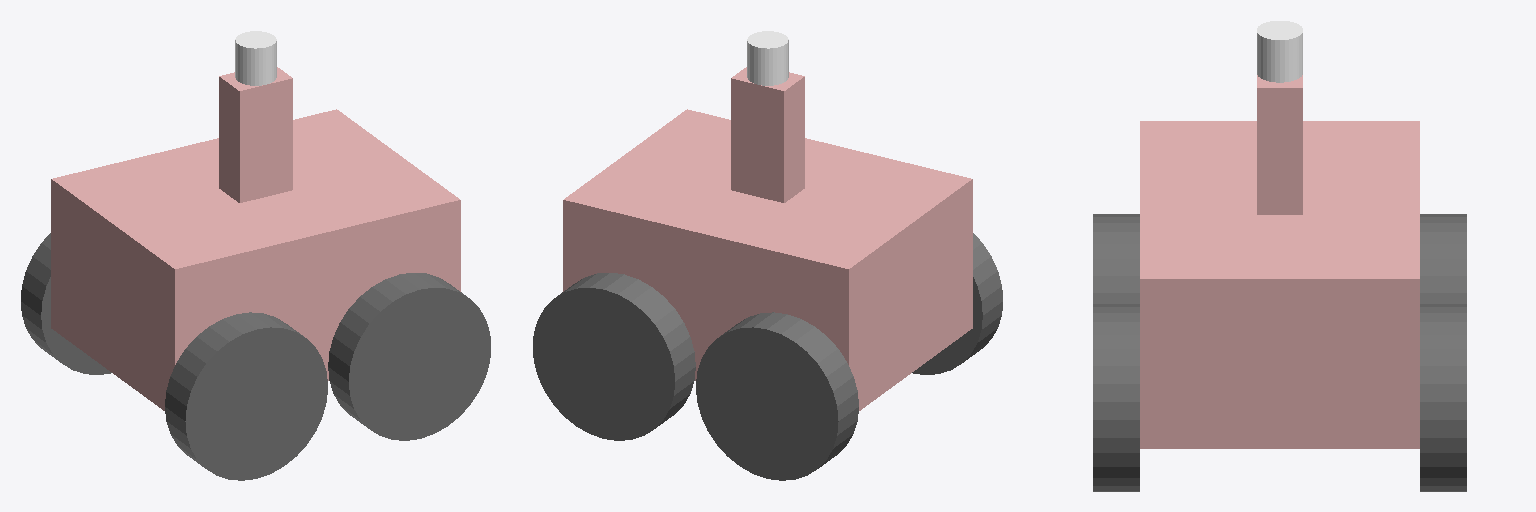
The robot description file, URDF, robot "my_robot":
<?xml version="1.0" ?><!-- =================================================================================== --><!-- |    This document was autogenerated by xacro from [local-path]/rover_ws/install/rover/share/rover/models/my_robot.urdf.xacro | --><!-- |    EDITING THIS FILE BY HAND IS NOT RECOMMENDED                                 | --><!-- =================================================================================== --><robot name="my_robot"><material name="grey"><color rgba="0.5 0.5 0.5 1"/></material><material name="pink"><color rgba="0.96 0.76 0.76 1"/></material><material name="white"><color rgba="1 1 1 1"/></material><gazebo reference="base_link"><mu1>0.2</mu1><mu2>0.2</mu2><material>Gazebo/Blue</material></gazebo><gazebo reference="stand_link"><mu1>0.2</mu1><mu2>0.2</mu2><material>Gazebo/Blue</material></gazebo><gazebo reference="camera_l_link"><mu1>0.2</mu1><mu2>0.2</mu2><material>Gazebo/White</material></gazebo><gazebo reference="camera_r_link"><mu1>0.2</mu1><mu2>0.2</mu2><material>Gazebo/White</material></gazebo><gazebo reference="wheel_fr_link"><mu1>0.2</mu1><mu2>0.2</mu2><material>Gazebo/White</material></gazebo><gazebo reference="wheel_fl_link"><mu1>0.2</mu1><mu2>0.2</mu2><material>Gazebo/White</material></gazebo><gazebo reference="wheel_br_link"><mu1>0.2</mu1><mu2>0.2</mu2><material>Gazebo/White</material></gazebo><gazebo reference="wheel_bl_link"><mu1>0.2</mu1><mu2>0.2</mu2><material>Gazebo/White</material></gazebo><gazebo><!-- <plugin filename="gz-sim-physics-system" name="gz::sim::systems::Physics"></plugin>
        <plugin filename="gz-sim-scene-broadcaster-system" name="gz::sim::systems::SceneBroadcaster"></plugin> --><!-- <plugin filename="gz_ros2_control-system" name="gz_ros2_control::GazeboSimROS2ControlPlugin">
            <parameters>$(find rover)/config/gz_bridge.yaml</parameters>
        </plugin> --><plugin filename="gz-sim-imu-system" name="gz::sim::systems::Imu">
    
        </plugin><plugin filename="gz-sim-sensors-system" name="gz::sim::systems::Sensors"><render_engine>ogre2</render_engine></plugin><plugin filename="gz-sim-diff-drive-system" name="gz::sim::systems::DiffDrive"><!-- wheels --><num_wheel_pairs>2</num_wheel_pairs><left_joint>wheel_fl_joint</left_joint><left_joint>wheel_bl_joint</left_joint><right_joint>wheel_fr_joint</right_joint><right_joint>wheel_br_joint</right_joint><!-- kinematics --><wheel_separation>1.15</wheel_separation><wheel_radius>0.2</wheel_radius><!-- limits --><max_linear_acceleration>10</max_linear_acceleration><max_velocity>10.0</max_velocity><max_angular_velocity>10.0</max_angular_velocity><!-- topics, update frequencies --><update_rate>50</update_rate><odom_publish_frequency>50</odom_publish_frequency><topic>cmd_vel</topic><tf_topic>/tf</tf_topic><odom_topic>odom</odom_topic><wheel_friction><wheel_fl_link><mu1>10.0</mu1><!-- Lateral friction --><mu2>10.0</mu2><!-- Rolling friction --></wheel_fl_link><wheel_fr_link><mu1>10.0</mu1><!-- Lateral friction --><mu2>10.0</mu2><!-- Rolling friction --></wheel_fr_link><wheel_bl_link><mu1>10.0</mu1><!-- Lateral friction --><mu2>10.0</mu2><!-- Rolling friction --></wheel_bl_link><wheel_br_link><mu1>10.0</mu1><!-- Lateral friction --><mu2>10.0</mu2><!-- Rolling friction --></wheel_br_link></wheel_friction></plugin><plugin filename="gz-sim-joint-state-publisher-system" name="gz::sim::systems::JointStatePublisher"><topic>joint_states</topic><joint_name>wheel_fl_joint</joint_name><joint_name>wheel_bl_joint</joint_name><joint_name>wheel_fr_joint</joint_name><joint_name>wheel_br_joint</joint_name></plugin></gazebo><gazebo reference="imu_link"><sensor name="imu_sensor" type="imu"><always_on>1</always_on><update_rate>50</update_rate><visualize>true</visualize><topic>imu</topic></sensor></gazebo><gazebo reference="lidar_link"><sensor name="lidar" type="gpu_lidar"><pose>0 0 0 0 0 0</pose><topic>cloud</topic><update_rate>10</update_rate><gz_frame_id>lidar_link</gz_frame_id><lidar><scan><horizontal><samples>720</samples><min_angle>-3.141592653</min_angle><max_angle>3.141592653</max_angle></horizontal><vertical><samples>64</samples><min_angle>-0.61</min_angle><max_angle>-0.001</max_angle></vertical></scan><range><min>0.3</min><max>4.6</max><resolution>0.01</resolution><noise><type>gaussian</type><mean>0.0</mean><stddev>0.02</stddev></noise></range></lidar><always_on>1</always_on><visualize>true</visualize></sensor></gazebo><joint name="stand_joint" type="fixed"><origin xyz="0 0 0.7100000000000001"/><parent link="base_link"/><child link="stand_link"/></joint><!-- <joint name="camera_l_joint" type="fixed">
        <origin xyz="${stand_length/2} ${stand_width/3} ${stand_height/2 - camera_height/2}"/>
        <parent link="stand_link"/>
        <child link="camera_l_link"/>
    </joint>

    <joint name="camera_r_joint" type="fixed">
        <origin xyz="${stand_length/2} ${-stand_width/3} ${stand_height/2 - camera_height/2}"/>
        <parent link="stand_link"/>
        <child link="camera_r_link"/>
    </joint> --><joint name="lidar_joint" type="fixed"><origin xyz="0 0 0.2"/><parent link="stand_link"/><child link="lidar_link"/></joint><joint name="imu_joint" type="fixed"><parent link="base_link"/><child link="imu_link"/></joint><joint name="wheel_fr_joint" type="continuous"><parent link="base_link"/><child link="wheel_fr_link"/><axis xyz="0 1 0"/><origin rpy="0 0 0" xyz="0.2285714285714286 -0.35 0.2"/><limit effort="20000" velocity="1.7"/><dynamics damping="1.0" friction="10.0"/></joint><joint name="wheel_fl_joint" type="continuous"><parent link="base_link"/><child link="wheel_fl_link"/><axis xyz="0 1 0"/><origin rpy="0 0 0" xyz="0.2285714285714286 0.35 0.2"/><limit effort="20000" velocity="1.7"/><dynamics damping="1.0" friction="10.0"/></joint><joint name="wheel_br_joint" type="continuous"><parent link="base_link"/><child link="wheel_br_link"/><axis xyz="0 1 0"/><origin rpy="0 0 0" xyz="-0.2285714285714286 -0.35 0.2"/><limit effort="20000" velocity="1.7"/><dynamics damping="1.0" friction="10.0"/></joint><joint name="wheel_bl_joint" type="continuous"><parent link="base_link"/><child link="wheel_bl_link"/><axis xyz="0 1 0"/><origin rpy="0 0 0" xyz="-0.2285714285714286 0.35 0.2"/><limit effort="20000" velocity="1.7"/><dynamics damping="1.0" friction="10.0"/></joint><link name="base_link"><visual><geometry><box size="0.8 0.6 0.4"/></geometry><origin rpy="0 0 0" xyz="0 0 0.36000000000000004"/><material name="pink"/></visual><collision><geometry><box size="0.8 0.6 0.4"/></geometry><origin rpy="0 0 0" xyz="0 0 0.36000000000000004"/></collision><inertial><origin rpy="0 0 0" xyz="0 0 0.36000000000000004"/><mass value="5"/><inertia ixx="0.3333333333333334" ixy="0" ixz="0" iyy="0.21666666666666667" iyz="0" izz="0.4166666666666667"/></inertial></link><link name="stand_link"><visual><geometry><box size="0.15 0.1 0.3"/></geometry><origin rpy="0 0 0" xyz="0 0 0"/><material name="pink"/></visual><collision><geometry><box size="0.15 0.1 0.3"/></geometry><origin rpy="0 0 0" xyz="0 0 0"/></collision><inertial><origin rpy="0 0 0" xyz="0 0 0"/><mass value="1"/><inertia ixx="0.009374999999999998" ixy="0" ixz="0" iyy="0.008333333333333333" iyz="0" izz="0.0027083333333333334"/></inertial></link><!-- <link name="camera_l_link">
        <visual>
            <geometry>
                <box size="${camera_length/2} ${camera_width} ${camera_height}"/>
            </geometry>
            <origin xyz="${-camera_length/4 + camera_length/2} 0 0" rpy="0 0 0"/>
            <material name="white"/>
        </visual>
        <visual>
            <geometry>
                <cylinder radius="${camera_width/3.2}" length="${camera_length/2}"/>
            </geometry>
            <origin xyz="${camera_length/4 + camera_length/2} 0 0" rpy="0 ${pi/2} 0"/>
            <material name="white"/>
        </visual>
        <collision>
            <geometry>
                <box size="${camera_length} ${camera_width} ${camera_height}"/>
            </geometry>
            <origin xyz="0 0 0" rpy="0 0 0"/>
        </collision>
        <inertial>
            <origin xyz="0 0 0" rpy="0 0 0"/>
            <mass value="${camera_mass}"/>
            <inertia ixx="${(camera_mass/12)*(camera_height * camera_height + camera_length * camera_length)}" ixy="0" ixz="0" iyy="${(camera_mass/12)*(camera_height * camera_height + camera_width * camera_width)}" iyz="0" izz="${(camera_mass/12)*(camera_length * camera_length + camera_width * camera_width)}"/>
        </inertial>
    </link>

    <link name="camera_r_link">
        <visual>
            <geometry>
                <box size="${camera_length/2} ${camera_width} ${camera_height}"/>
            </geometry>
            <origin xyz="${-camera_length/4 + camera_length/2} 0 0" rpy="0 0 0"/>
            <material name="white"/>
        </visual>
        <visual>
            <geometry>
                <cylinder radius="${camera_width/3.2}" length="${camera_length/2}"/>
            </geometry>
            <origin xyz="${camera_length/4 + camera_length/2} 0 0" rpy="0 ${pi/2} 0"/>
            <material name="white"/>
        </visual>
        <collision>
            <geometry>
                <box size="${camera_length} ${camera_width} ${camera_height}"/>
            </geometry>
            <origin xyz="0 0 0" rpy="0 0 0"/>
        </collision>
        <inertial>
            <origin xyz="0 0 0" rpy="0 0 0"/>
            <mass value="${camera_mass}"/>
            <inertia ixx="${(camera_mass/12)*(camera_height * camera_height + camera_length * camera_length)}" ixy="0" ixz="0" iyy="${(camera_mass/12)*(camera_height * camera_height + camera_width * camera_width)}" iyz="0" izz="${(camera_mass/12)*(camera_length * camera_length + camera_width * camera_width)}"/>
        </inertial>
    </link> --><link name="lidar_link"><visual><geometry><cylinder length="0.1" radius="0.05"/></geometry><origin rpy="0 0 0" xyz="0 0 0"/><material name="white"/></visual><collision><geometry><cylinder length="0.1" radius="0.05"/></geometry><origin rpy="0 0 0" xyz="0 0 0"/></collision><inertial><origin rpy="0 0 0" xyz="0 0 0"/><mass value="0.1"/><inertia ixx="0.00014583333333333335" ixy="0" ixz="0" iyy="0.00014583333333333335" iyz="0" izz="0.00012500000000000003"/></inertial></link><link name="imu_link"><inertial><mass value="0.01"/><origin rpy="0 0 0" xyz="0 0 0"/><inertia ixx="1e-5" ixy="0" ixz="0" iyy="1e-5" iyz="0" izz="1e-5"/></inertial></link><link name="wheel_fr_link"><visual><geometry><cylinder length="0.1" radius="0.2"/></geometry><origin rpy="1.5707963267948966 0 0" xyz="0 0 0"/><material name="grey"/></visual><collision><geometry><cylinder length="0.1" radius="0.2"/></geometry><origin rpy="1.5707963267948966 0 0" xyz="0 0 0"/></collision><inertial><origin rpy="1.5707963267948966 0 0" xyz="0 0 0"/><mass value="1.2"/><inertia ixx="0.013000000000000003" ixy="0" ixz="0" iyy="0.013000000000000003" iyz="0" izz="0.024"/></inertial></link><link name="wheel_fl_link"><visual><geometry><cylinder length="0.1" radius="0.2"/></geometry><origin rpy="1.5707963267948966 0 0" xyz="0 0 0"/><material name="grey"/></visual><collision><geometry><cylinder length="0.1" radius="0.2"/></geometry><origin rpy="1.5707963267948966 0 0" xyz="0 0 0"/></collision><inertial><origin rpy="1.5707963267948966 0 0" xyz="0 0 0"/><mass value="1.2"/><inertia ixx="0.013000000000000003" ixy="0" ixz="0" iyy="0.013000000000000003" iyz="0" izz="0.024"/></inertial></link><link name="wheel_br_link"><visual><geometry><cylinder length="0.1" radius="0.2"/></geometry><origin rpy="1.5707963267948966 0 0" xyz="0 0 0"/><material name="grey"/></visual><collision><geometry><cylinder length="0.1" radius="0.2"/></geometry><origin rpy="1.5707963267948966 0 0" xyz="0 0 0"/></collision><inertial><origin rpy="1.5707963267948966 0 0" xyz="0 0 0"/><mass value="1.2"/><inertia ixx="0.013000000000000003" ixy="0" ixz="0" iyy="0.013000000000000003" iyz="0" izz="0.024"/></inertial></link><link name="wheel_bl_link"><visual><geometry><cylinder length="0.1" radius="0.2"/></geometry><origin rpy="1.5707963267948966 0 0" xyz="0 0 0"/><material name="grey"/></visual><collision><geometry><cylinder length="0.1" radius="0.2"/></geometry><origin rpy="1.5707963267948966 0 0" xyz="0 0 0"/></collision><inertial><origin rpy="1.5707963267948966 0 0" xyz="0 0 0"/><mass value="1.2"/><inertia ixx="0.013000000000000003" ixy="0" ixz="0" iyy="0.013000000000000003" iyz="0" izz="0.024"/></inertial></link></robot>

--- What the picture shows (computed from the rendered views, not written in the file) ---
The picture shows the robot from 3 angles, left to right: view 1: azimuth 30°, elevation 25°; view 2: azimuth 150°, elevation 25°; view 3: azimuth 270°, elevation 25°; orthographic projection.
Model my_robot with 8 links and 7 joints (4 continuous, 3 fixed), rooted at base_link, posed all joints at 0.
Visible links, largest first — view 1: base_link, wheel_fr_link, wheel_br_link, stand_link, wheel_bl_link, lidar_link; view 2: base_link, wheel_fl_link, wheel_bl_link, stand_link, wheel_br_link, lidar_link; view 3: base_link, wheel_fr_link, wheel_fl_link, stand_link, wheel_br_link, wheel_bl_link, lidar_link.
Link boxes in pixels (x1=…): base_link: x1=51, y1=109, x2=460, y2=410; wheel_fr_link: x1=328, y1=273, x2=490, y2=440; wheel_br_link: x1=165, y1=312, x2=327, y2=480; stand_link: x1=219, y1=67, x2=292, y2=202; wheel_bl_link: x1=21, y1=233, x2=111, y2=374; lidar_link: x1=235, y1=31, x2=276, y2=85; base_link: x1=563, y1=109, x2=972, y2=410; wheel_fl_link: x1=533, y1=273, x2=695, y2=440; wheel_bl_link: x1=696, y1=312, x2=858, y2=480; stand_link: x1=731, y1=67, x2=804, y2=202; wheel_br_link: x1=912, y1=233, x2=1002, y2=374; lidar_link: x1=747, y1=31, x2=788, y2=85; base_link: x1=1140, y1=121, x2=1419, y2=448; wheel_fr_link: x1=1093, y1=304, x2=1139, y2=491; wheel_fl_link: x1=1420, y1=304, x2=1466, y2=491; stand_link: x1=1257, y1=75, x2=1302, y2=214; wheel_br_link: x1=1093, y1=214, x2=1139, y2=303; wheel_bl_link: x1=1420, y1=214, x2=1466, y2=303; lidar_link: x1=1257, y1=21, x2=1302, y2=82.
Size in the robot's own frame: 0.8571 by 0.8 by 0.96 metres.
Geometry: primitives only (box / cylinder / sphere), no mesh files.